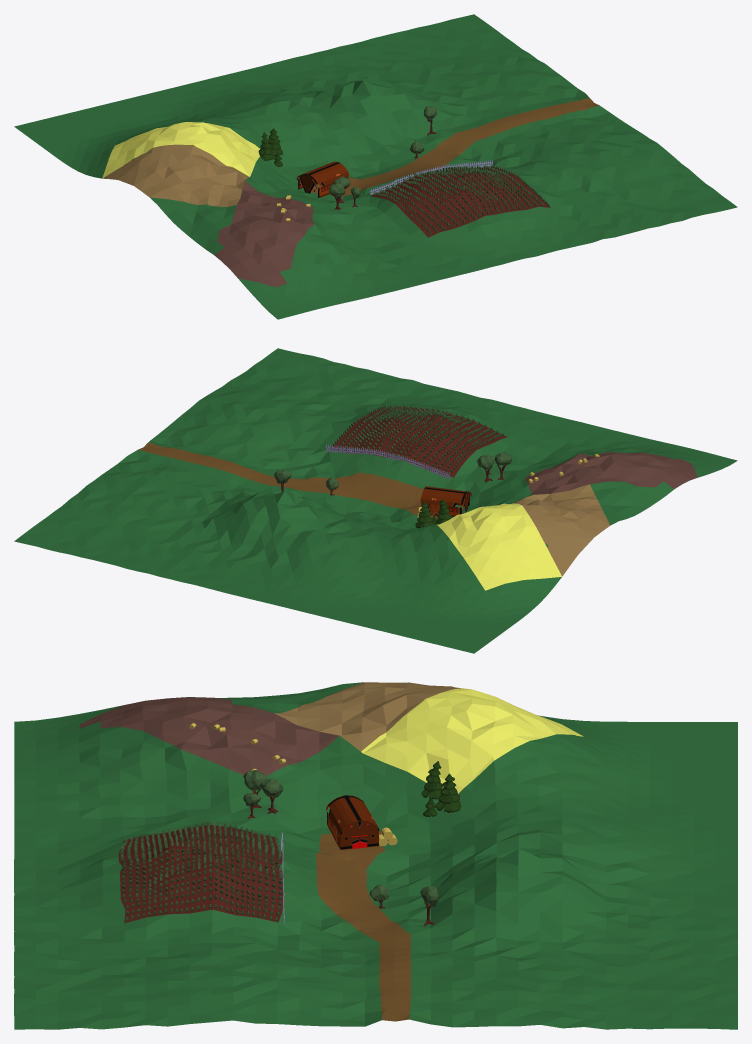
File: farms.fbx
3 renders of one model, top to bottom at view 1: azimuth 30°, elevation 25°; view 2: azimuth 150°, elevation 25°; view 3: azimuth 270°, elevation 25°, orthographic. The views are drawn at different scales.
Visible parts, largest first — view 1: road, barn; view 2: road, barn; view 3: road, barn, pine3.2.
Part boxes in pixels (<box>): road: <box>14,14,737,319</box>; barn: <box>296,161,349,197</box>; road: <box>14,348,737,653</box>; barn: <box>420,486,471,517</box>; road: <box>14,682,737,1029</box>; barn: <box>326,795,379,849</box>; pine3.2: <box>435,773,461,812</box>.
Size of the model in its own units: 7408 by 929 by 7348.
